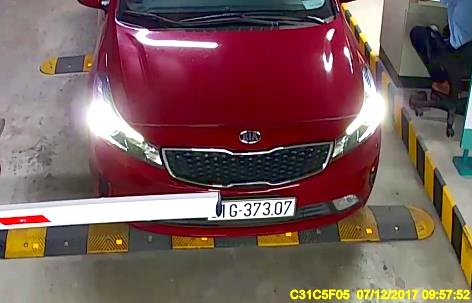plate: (205, 195, 297, 222)
